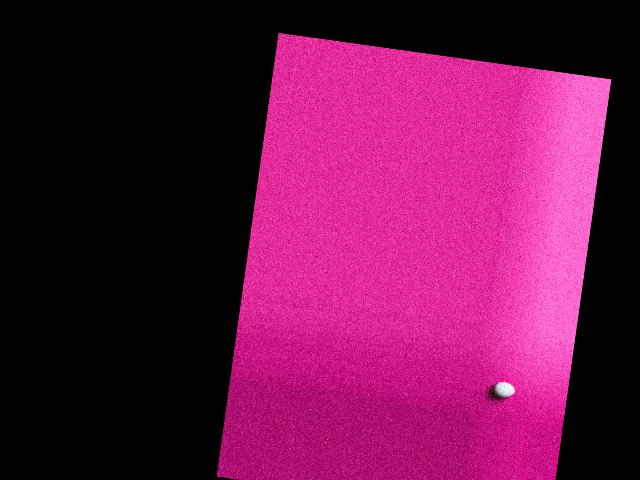egg: (492, 380, 515, 398)
